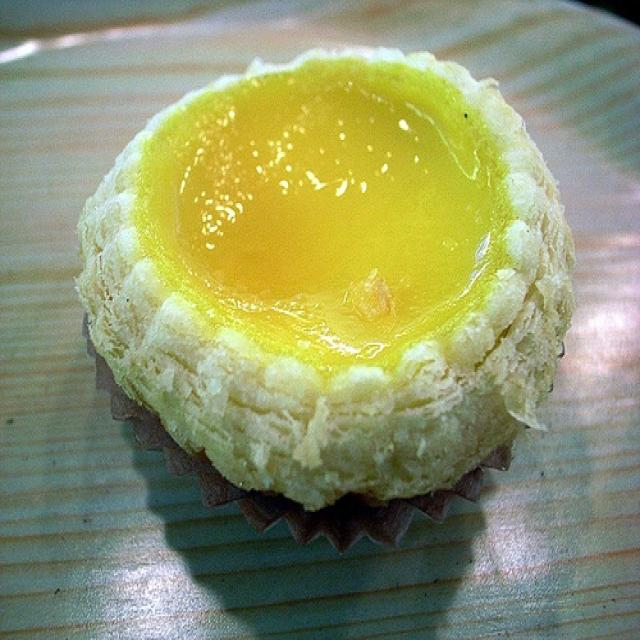炸货点心: (65, 39, 584, 536)
蛋糕甜品: (65, 39, 584, 536)
